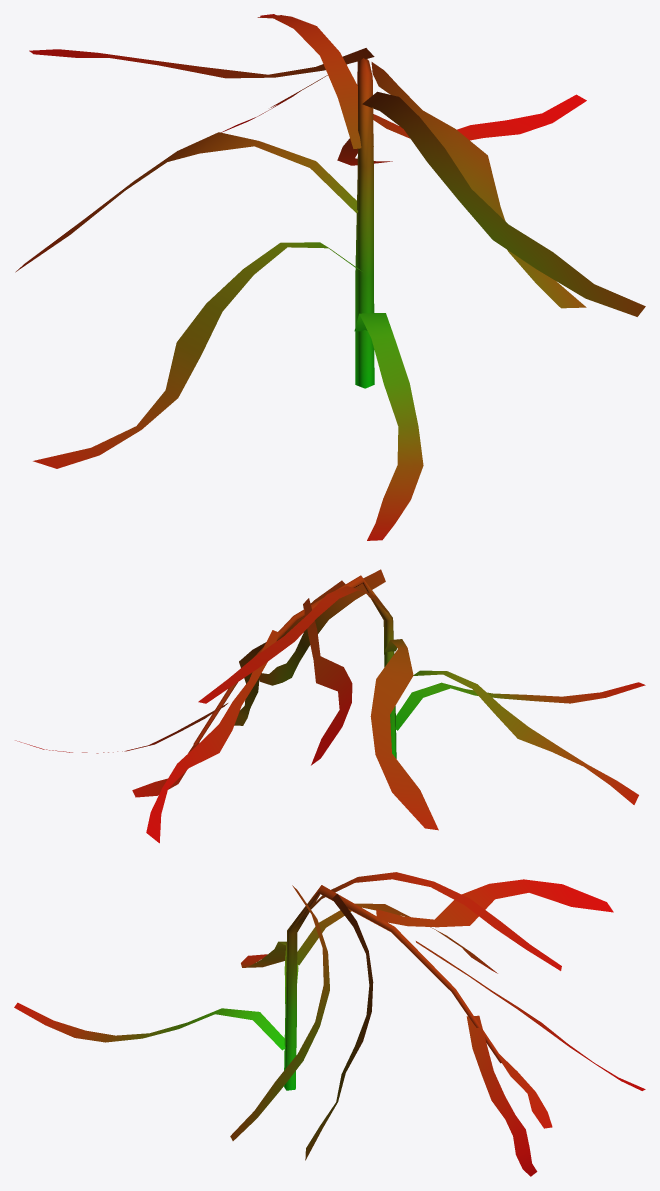
The model's file is Great Brome_LOD1_Var7_tjugaikia.fbx.
3 views of the same model, one above another, from view 1: azimuth 30°, elevation 25°; view 2: azimuth 150°, elevation 25°; view 3: azimuth 270°, elevation 25° (orthographic). The views are drawn at different scales.
Parts seen in each view (by area): view 1: _733d_Var7_LOD1; view 2: _733d_Var7_LOD1; view 3: _733d_Var7_LOD1.
Boxes of the visible parts, x1,y1,x2,y2 form: _733d_Var7_LOD1: (15,14,645,540); _733d_Var7_LOD1: (15,569,645,843); _733d_Var7_LOD1: (14,872,645,1176).
Bounding box in the file's own units: 66.65 × 26.11 × 68.86.
